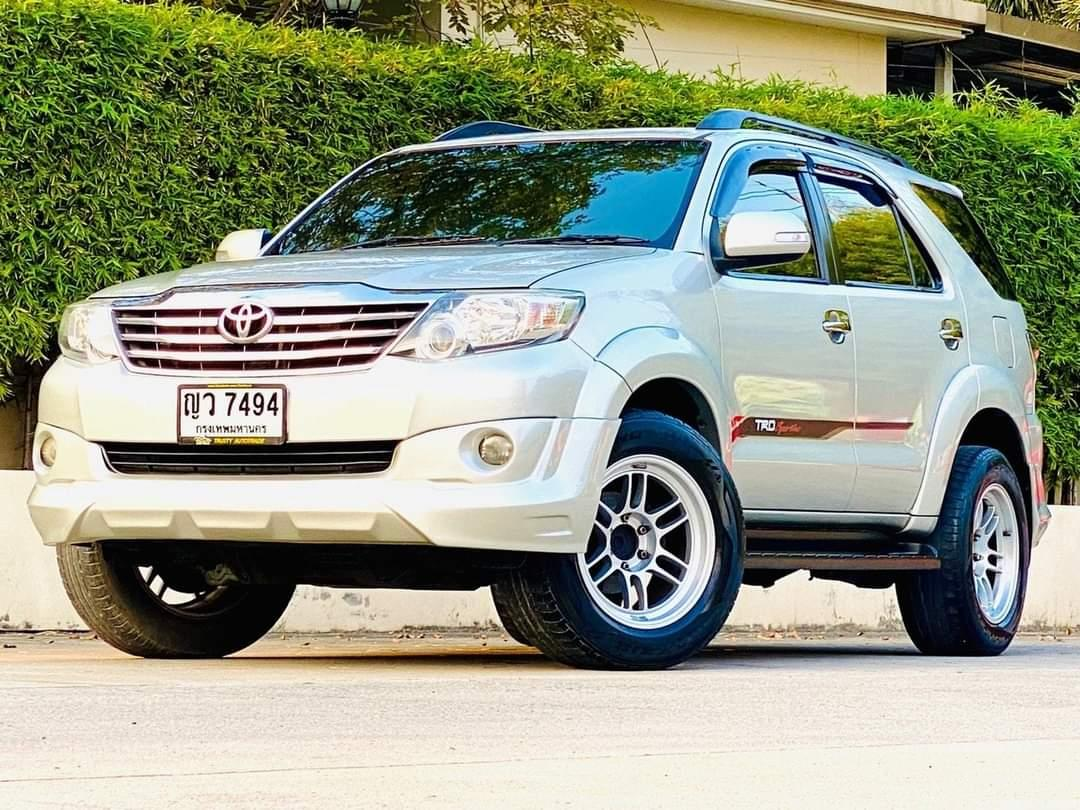license-plate: (175, 379, 290, 450)
